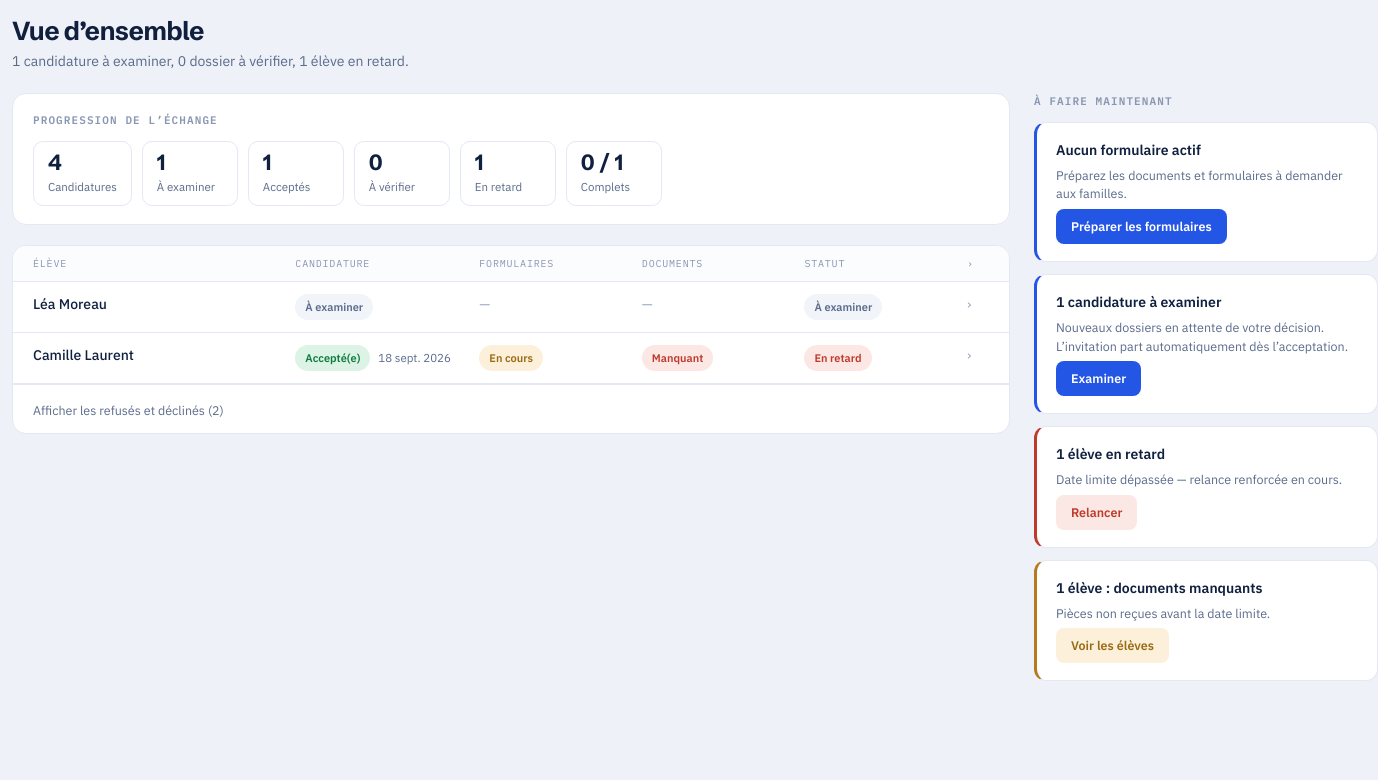
Test: OverviewView — unified lifecycle table › hides rejected/declined rows behind the « Afficher » toggle
Expected: the text "Nina Rey" is not shown
Click the button "Afficher les refusés et déclinés (2)" at (128, 410), box [33, 401, 224, 420]
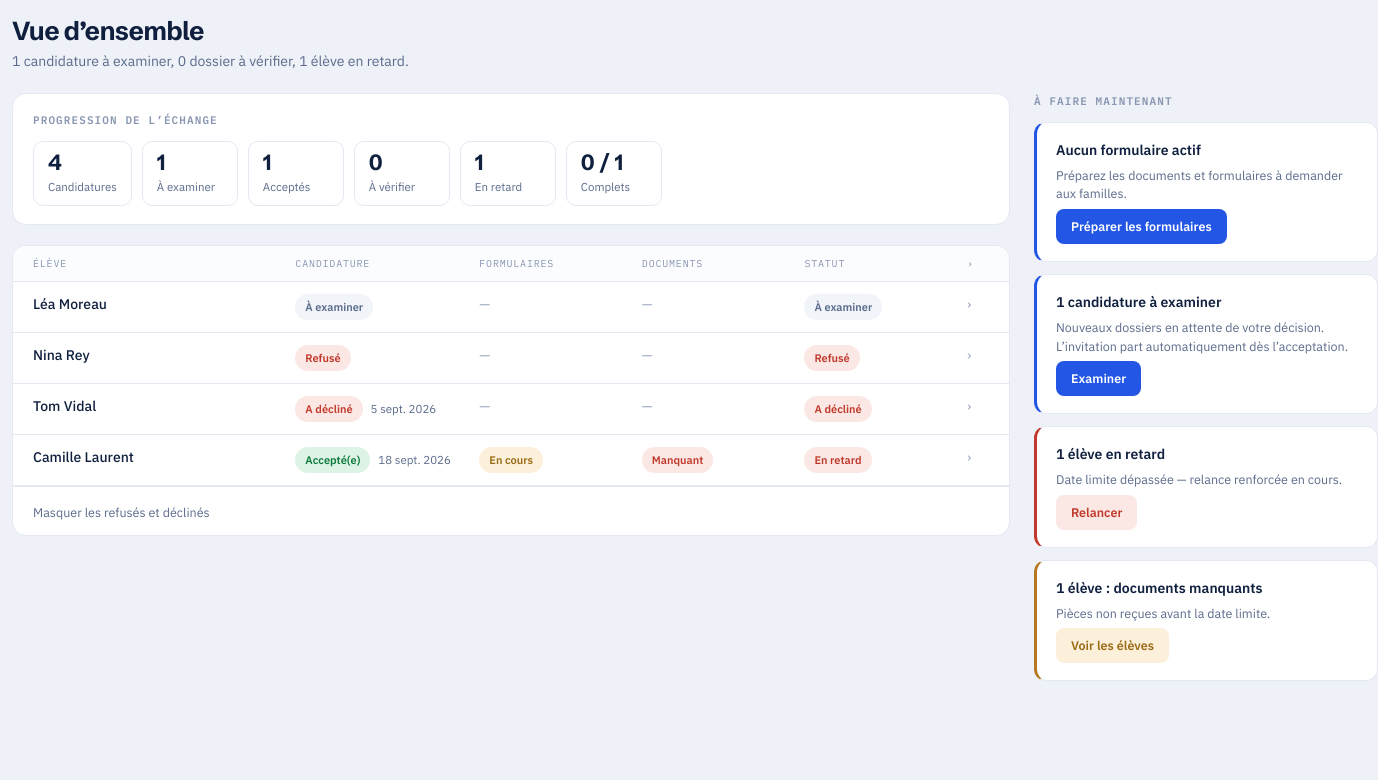
Expected: the text "Nina Rey" is shown, [33, 346, 90, 364]
Expected: the text "Tom Vidal" is shown, [33, 397, 96, 415]
Click the button "Masquer les refusés et déclinés" at (121, 512), box [33, 503, 210, 522]
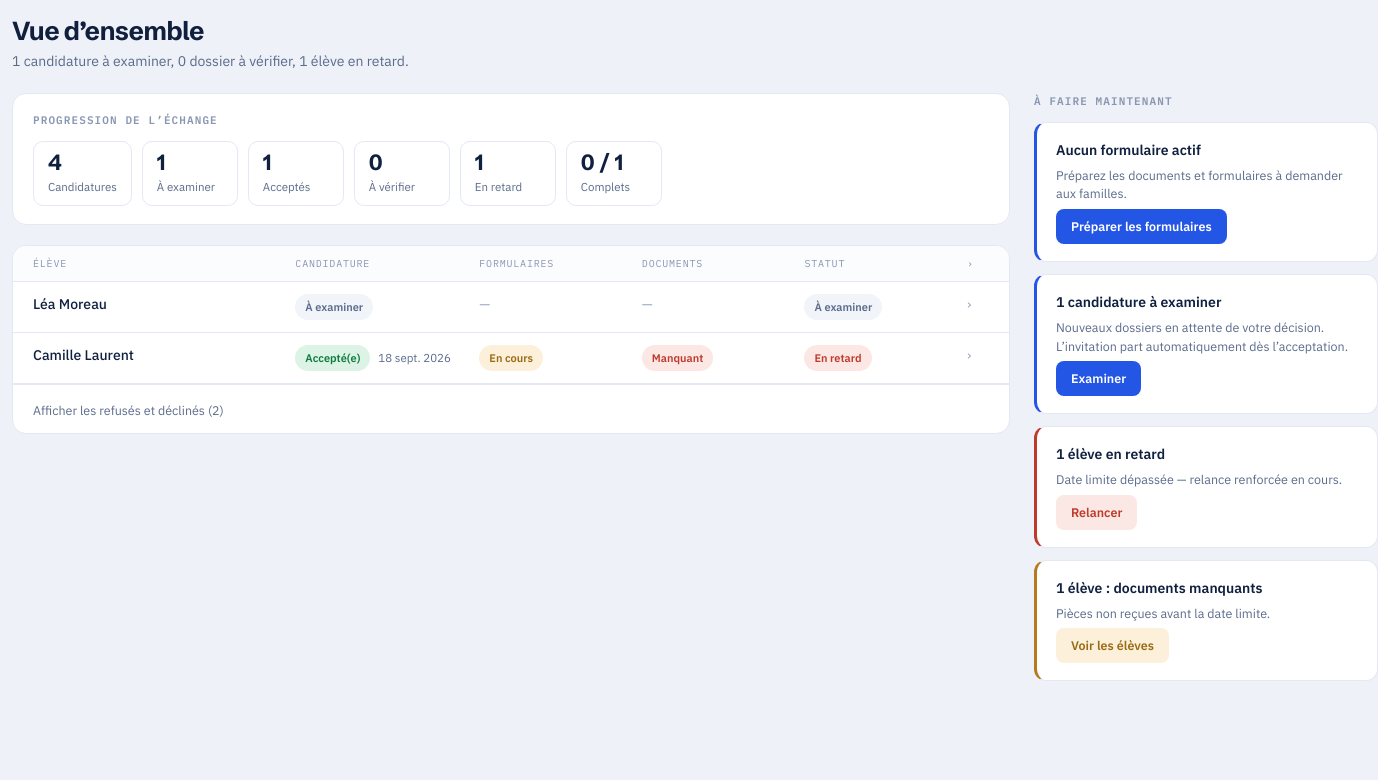
Expected: the text "Nina Rey" is gone
